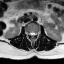CCS_normal: (31, 29, 33, 39)
LFS_normal: (35, 30, 37, 37)
LLS_normal: (33, 30, 35, 38)
RFS_normal: (27, 30, 29, 36)
RLS_normal: (29, 30, 31, 37)
